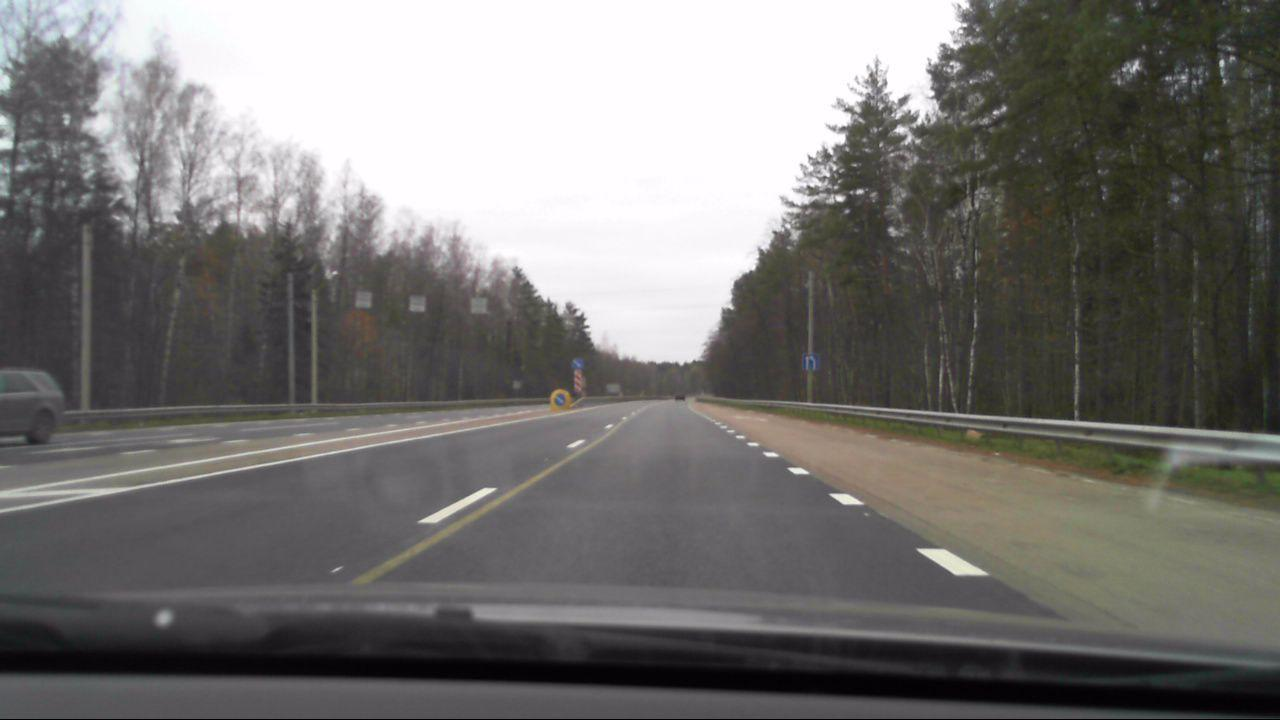4_2_1: (555, 392, 567, 407), (572, 356, 584, 370)
5_15_5: (803, 353, 821, 370)
8_22_1: (573, 369, 582, 393)
